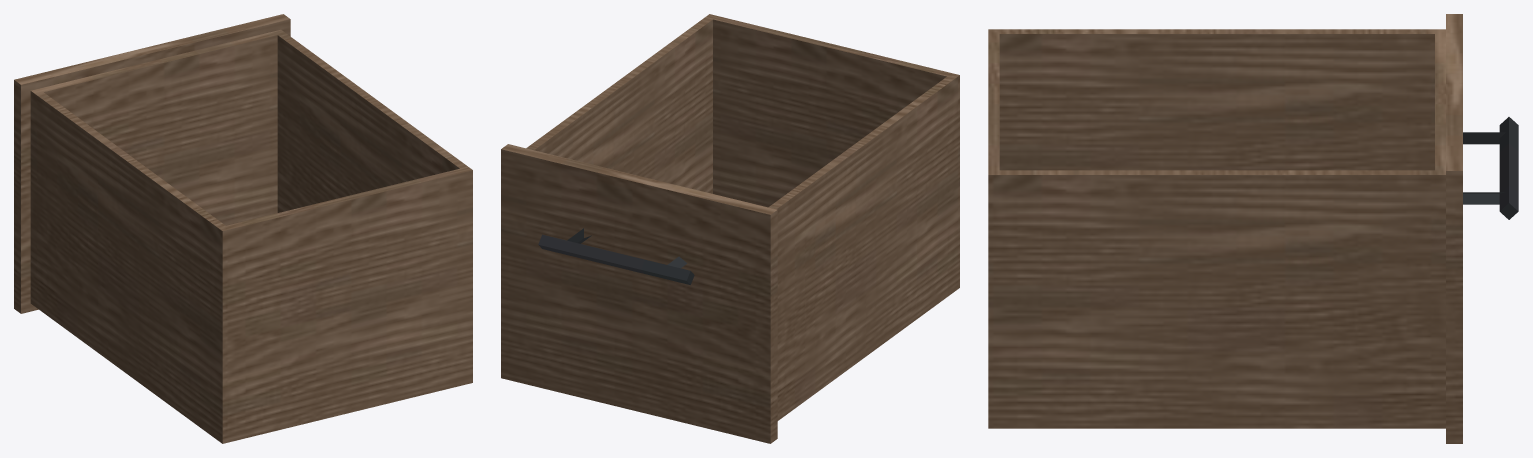
File: Washbasin_drawer_04.glb
The picture shows the model from 3 angles, left to right: view 1: azimuth 30°, elevation 25°; view 2: azimuth 150°, elevation 25°; view 3: azimuth 270°, elevation 25°; orthographic projection. The views are drawn at different scales.
Visible parts, largest first — view 1: Washbasin_drawer_04; view 2: Washbasin_drawer_04; view 3: Washbasin_drawer_04.
Boxes of the visible parts, bbox=[...] form: Washbasin_drawer_04: bbox=[14, 14, 472, 443]; Washbasin_drawer_04: bbox=[501, 14, 959, 443]; Washbasin_drawer_04: bbox=[988, 14, 1518, 443].
Size of the model in its own units: 0.3464 by 0.2813 by 0.4949.
Materials: 2 (2 with a texture image).
